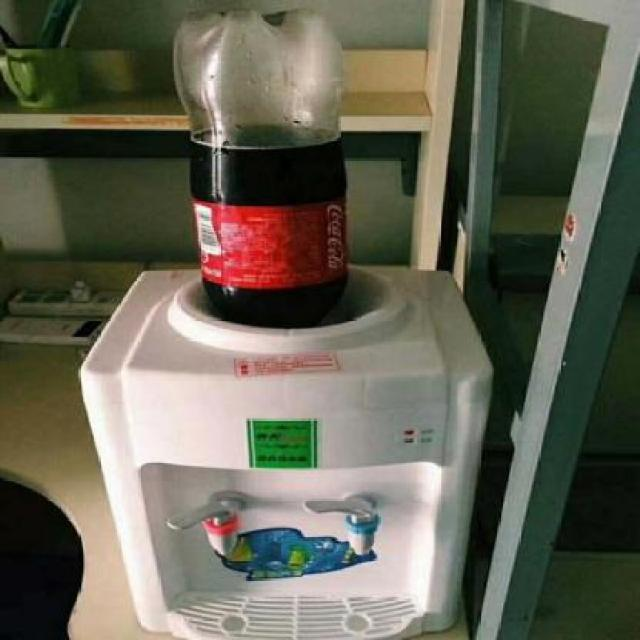cooler: (77, 249, 497, 640)
